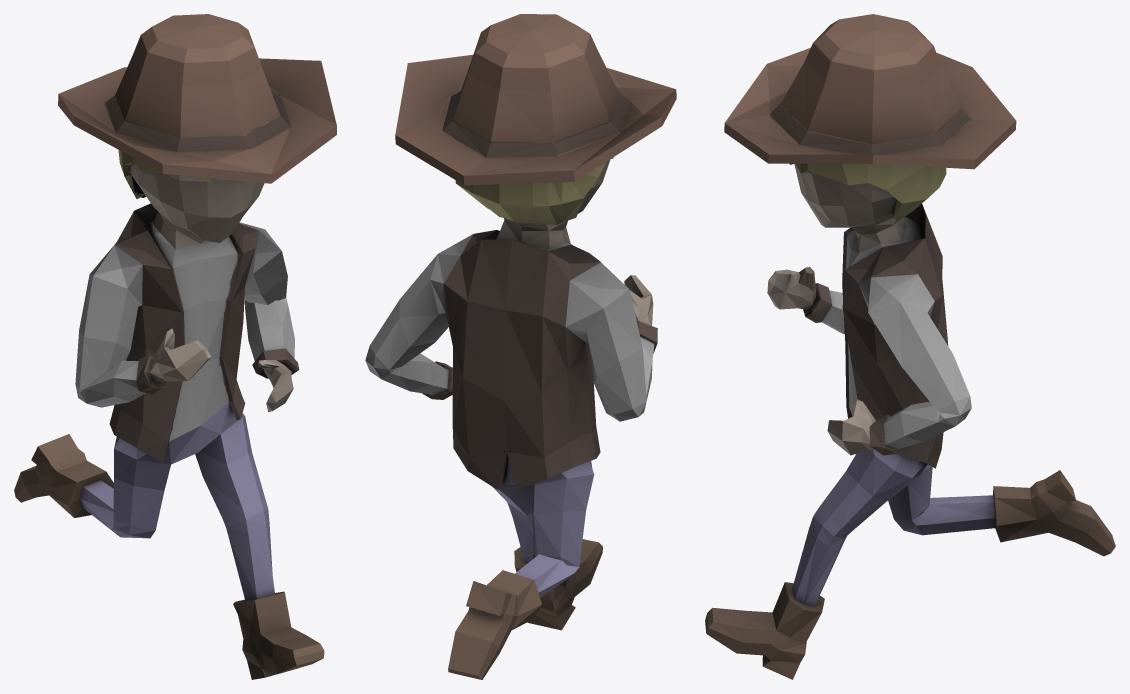
The model's file is char_3.obj.
The picture shows the model from 3 angles, left to right: view 1: azimuth 30°, elevation 25°; view 2: azimuth 150°, elevation 25°; view 3: azimuth 270°, elevation 25°; orthographic projection.
Parts seen in each view (by area): view 1: Cube; view 2: Cube; view 3: Cube.
Boxes of the visible parts, x1,y1,x2,y2 form: Cube: [14, 14, 336, 679]; Cube: [365, 14, 676, 679]; Cube: [705, 14, 1115, 679].
Bounding box in the file's own units: 3.49 × 8.36 × 4.97.
Materials: 1 (1 with a texture image).
